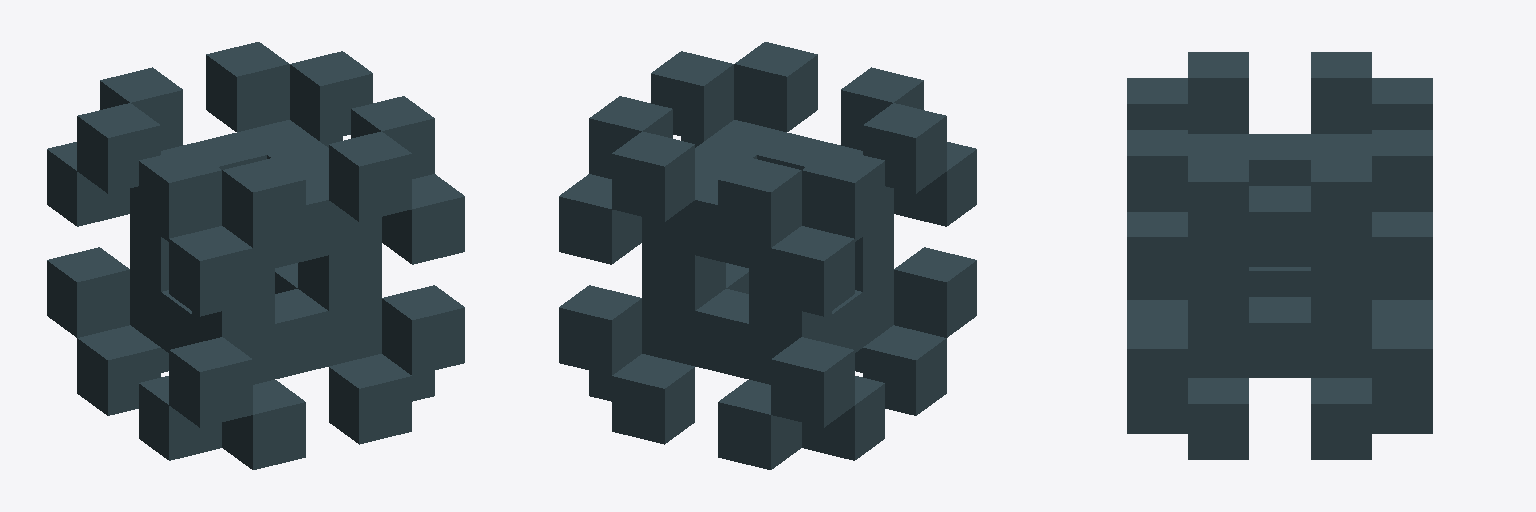
3 views of the same model, side by side, from view 1: azimuth 30°, elevation 25°; view 2: azimuth 150°, elevation 25°; view 3: azimuth 270°, elevation 25° (orthographic).
Parts seen in each view (by area): view 1: object 1; view 2: object 1; view 3: object 1.
Boxes of the visible parts, x1=… form: object 1: x1=47, y1=42, x2=464, y2=469; object 1: x1=559, y1=42, x2=976, y2=469; object 1: x1=1127, y1=52, x2=1432, y2=459.
Bounding box in the file's own units: 0.5 × 0.5 × 0.5.
1 materials, 1 textured.